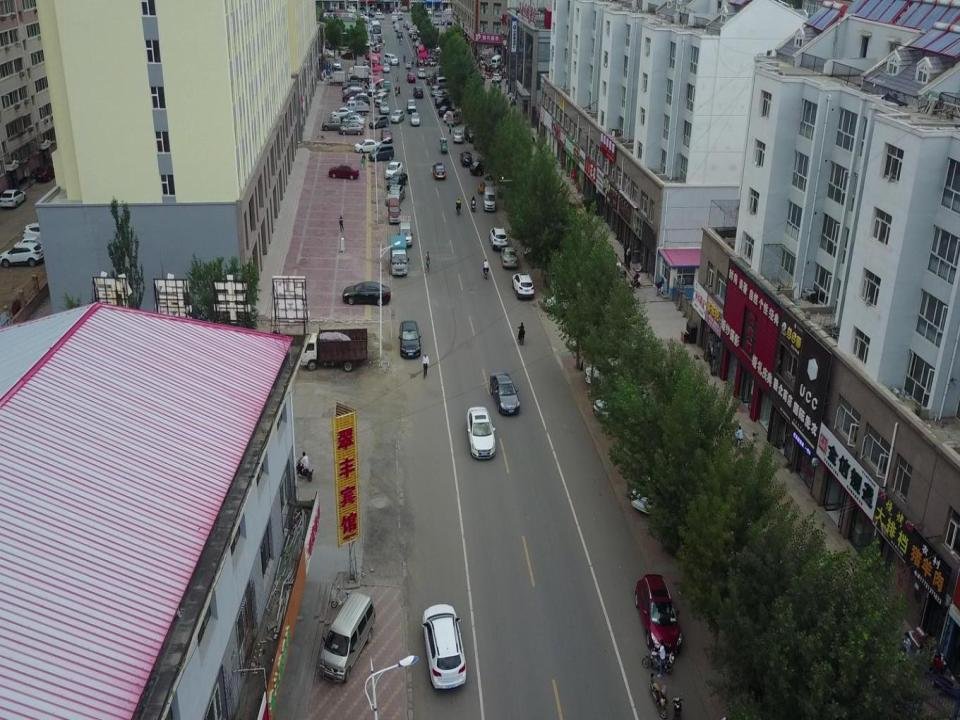car: (420, 604, 467, 689), (634, 572, 683, 652), (593, 381, 655, 429), (630, 460, 682, 516), (584, 354, 648, 393), (465, 403, 498, 456), (490, 370, 521, 415), (342, 280, 390, 307), (541, 290, 588, 316), (398, 319, 422, 358), (512, 271, 534, 299), (328, 162, 359, 181), (470, 157, 498, 176), (354, 136, 382, 154), (386, 170, 408, 192), (385, 161, 407, 183), (500, 245, 519, 269), (488, 226, 507, 250), (385, 183, 404, 206), (345, 99, 369, 116), (368, 113, 390, 129), (341, 117, 368, 130), (338, 111, 364, 124), (340, 124, 368, 136), (320, 118, 348, 130), (435, 95, 456, 111), (439, 106, 461, 121), (350, 92, 370, 108), (329, 108, 355, 120), (432, 161, 445, 181), (459, 150, 473, 166), (379, 127, 393, 143), (409, 111, 421, 128), (390, 110, 404, 123), (378, 102, 391, 115), (452, 130, 463, 144), (413, 89, 423, 98)
truck: (296, 329, 368, 371), (389, 233, 408, 277), (405, 99, 417, 112)
van: (316, 592, 374, 681), (368, 142, 395, 162), (386, 197, 401, 226), (398, 218, 413, 246), (482, 184, 496, 212), (447, 110, 463, 126), (374, 93, 388, 106)
